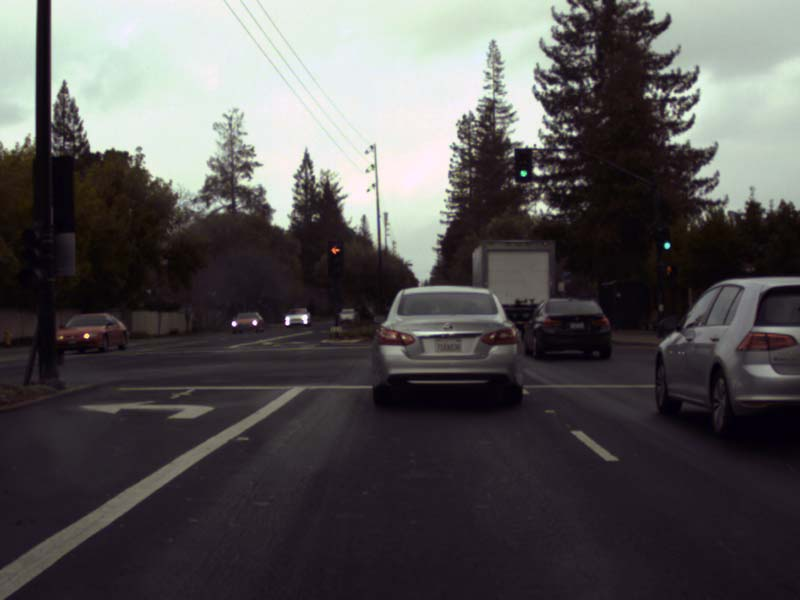Green: (514, 147, 531, 180), (660, 228, 671, 250)
Red: (327, 241, 343, 276)
